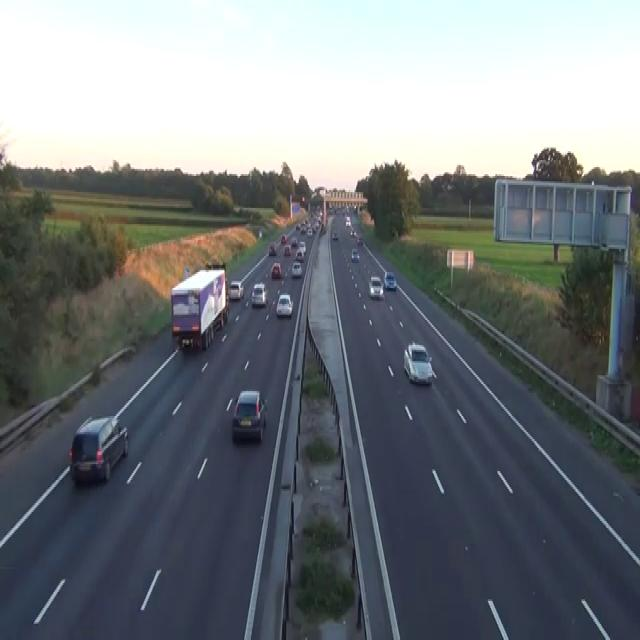Car: (68, 414, 128, 484), (231, 389, 266, 443), (403, 341, 436, 384), (251, 282, 267, 308), (276, 292, 293, 316), (228, 279, 244, 301), (368, 276, 384, 298), (383, 270, 396, 290), (270, 261, 281, 279), (291, 262, 302, 278), (224, 292, 229, 320), (351, 247, 359, 261), (298, 240, 306, 254), (295, 249, 304, 261), (268, 244, 276, 256), (284, 244, 291, 256), (345, 215, 351, 226), (281, 233, 287, 243), (321, 222, 326, 233), (332, 231, 338, 240), (291, 237, 297, 246), (356, 234, 362, 243), (350, 228, 356, 236), (300, 224, 305, 233), (258, 228, 262, 238), (307, 228, 312, 236), (353, 202, 357, 210), (296, 222, 300, 230), (301, 195, 305, 202)
Truck: (170, 265, 229, 350)
